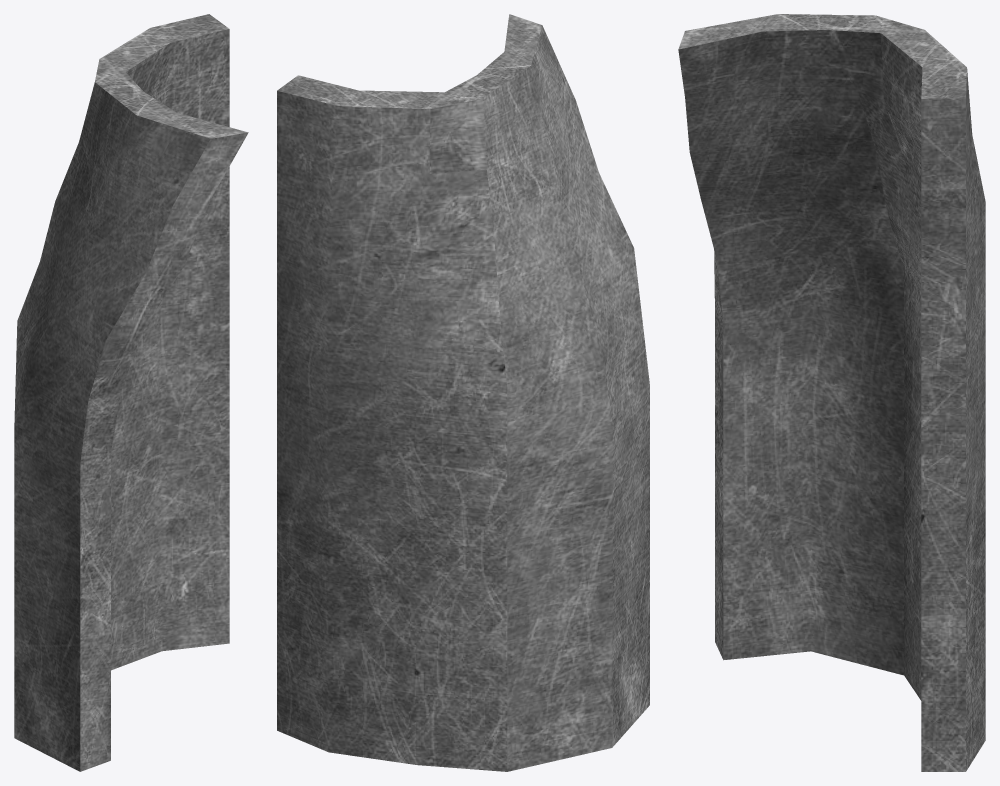
Rendered from BentDoor.FBX.
3 renders of one model, left to right at view 1: azimuth 30°, elevation 25°; view 2: azimuth 150°, elevation 25°; view 3: azimuth 270°, elevation 25°, orthographic. The views are drawn at different scales.
Visible parts, largest first — view 1: BentDoor; view 2: BentDoor; view 3: BentDoor.
Boxes of the visible parts, x1,y1,x2,y2 form: BentDoor: (14,14,248,771); BentDoor: (277,14,649,771); BentDoor: (678,14,985,771).
Bounding box in the file's own units: 44.01 × 100 × 41.37.
1 material, 1 textured.
